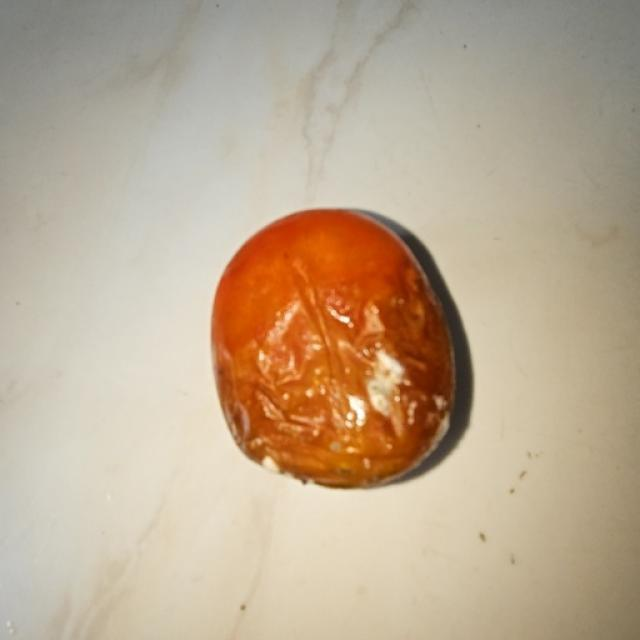Red: (208, 206, 456, 489)
